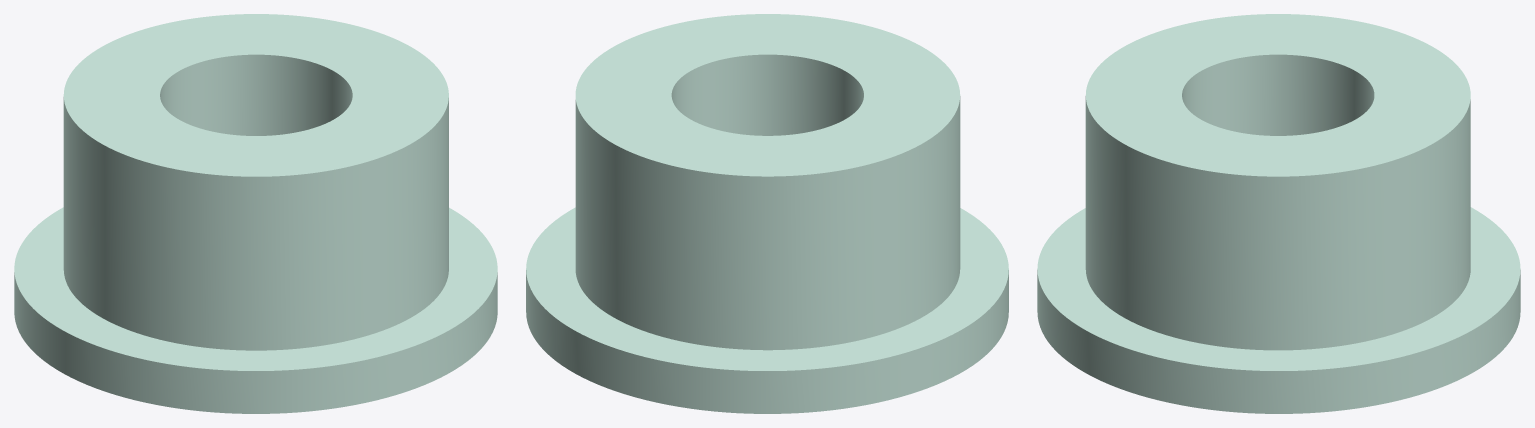
3 views of the same model, side by side, from view 1: azimuth 30°, elevation 25°; view 2: azimuth 150°, elevation 25°; view 3: azimuth 270°, elevation 25° (orthographic).
Visible parts, largest first — view 1: Renderer Node; view 2: Renderer Node; view 3: Renderer Node.
Part boxes in pixels (<box>): Renderer Node: <box>14,14,497,413</box>; Renderer Node: <box>526,14,1008,413</box>; Renderer Node: <box>1037,14,1520,413</box>.
Bounding box in the file's own units: 1.52 × 0.75 × 1.52.
